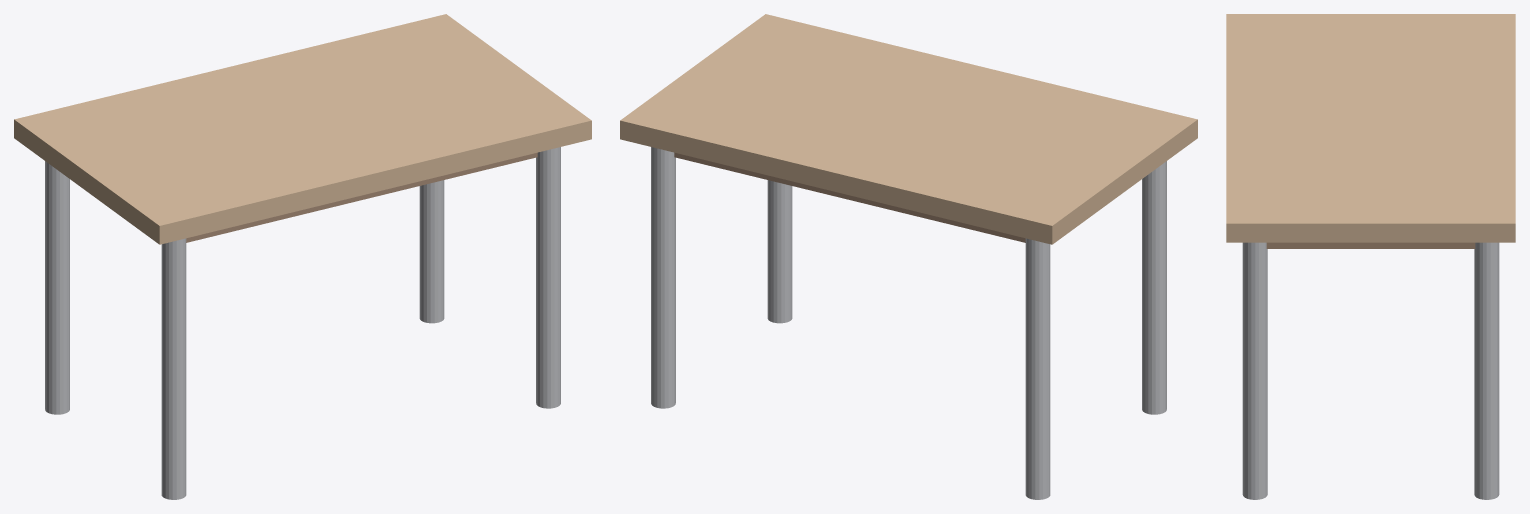
File: table.glb
3 views of the same model, side by side, from view 1: azimuth 30°, elevation 25°; view 2: azimuth 150°, elevation 25°; view 3: azimuth 270°, elevation 25° (orthographic).
Visible parts, largest first — view 1: part_0, part_2, part_1; view 2: part_0, part_2, part_1; view 3: part_0, part_2, part_1.
Part boxes in pixels (left/top/right/bottom): part_0: left=14, top=14, right=591, bottom=244; part_2: left=45, top=147, right=560, bottom=499; part_1: left=186, top=152, right=537, bottom=242; part_0: left=620, top=14, right=1197, bottom=244; part_2: left=651, top=147, right=1166, bottom=499; part_1: left=674, top=152, right=1025, bottom=242; part_0: left=1226, top=14, right=1515, bottom=242; part_2: left=1242, top=242, right=1499, bottom=499; part_1: left=1266, top=242, right=1475, bottom=248.
Bounding box in the file's own units: 1.2 × 0.76 × 0.7.
